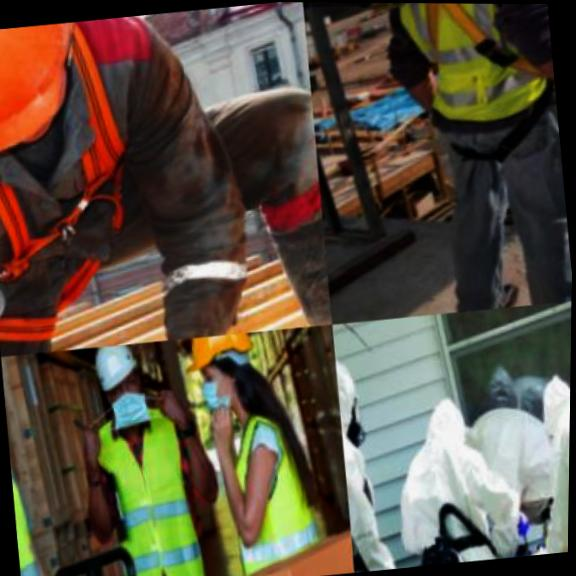safety_vest: (0, 0, 308, 357), (358, 3, 561, 156), (367, 421, 563, 571), (76, 397, 230, 576), (206, 396, 344, 566), (338, 400, 449, 573), (5, 434, 95, 576), (506, 373, 571, 555)
